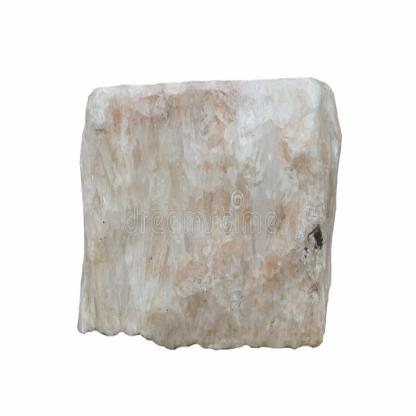Sedimentary_Limestone: (75, 53, 342, 365)
